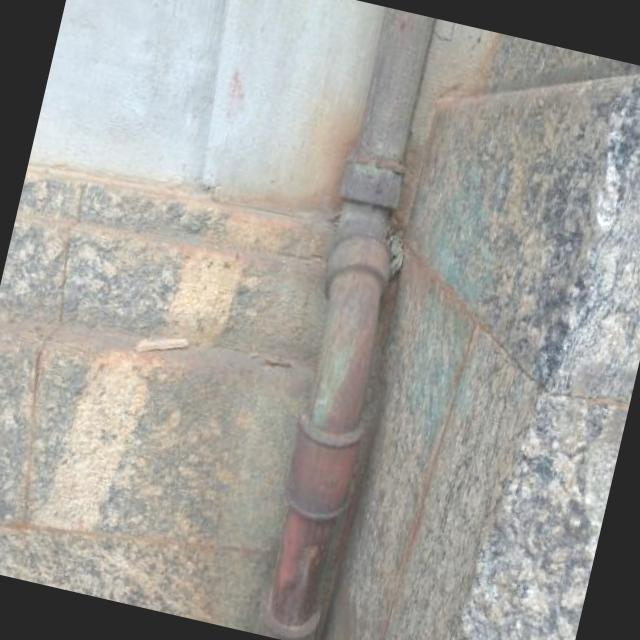gas: (266, 6, 435, 640)
